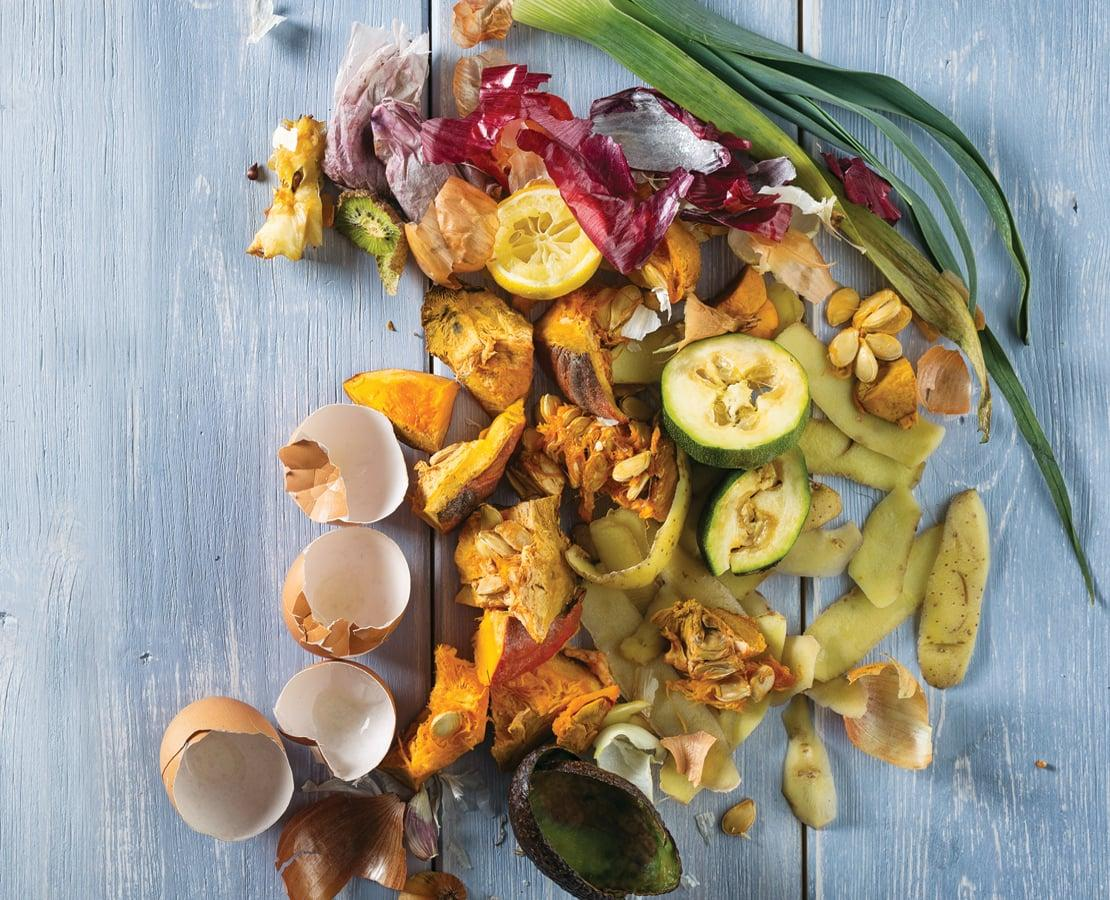organic: (321, 20, 457, 219), (507, 748, 685, 900), (660, 332, 816, 470), (448, 496, 584, 646), (585, 82, 755, 179), (397, 403, 528, 527), (693, 443, 814, 575), (423, 287, 540, 423), (916, 478, 990, 689), (397, 632, 494, 785), (663, 595, 790, 709), (485, 183, 602, 302), (280, 795, 406, 900), (245, 117, 329, 262), (469, 596, 592, 691), (845, 477, 923, 606), (543, 309, 634, 418), (344, 368, 458, 449), (829, 272, 912, 382), (780, 686, 841, 830), (335, 183, 409, 295), (920, 335, 971, 424), (399, 782, 444, 865), (392, 863, 474, 900)
